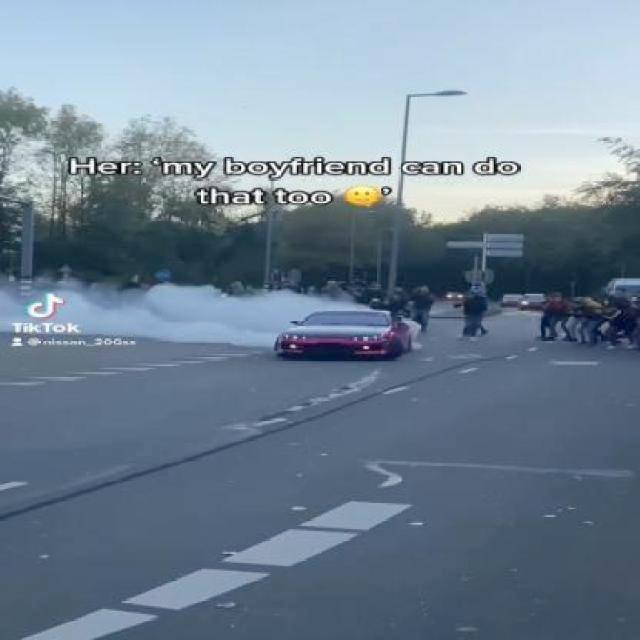car: (276, 307, 410, 362)
